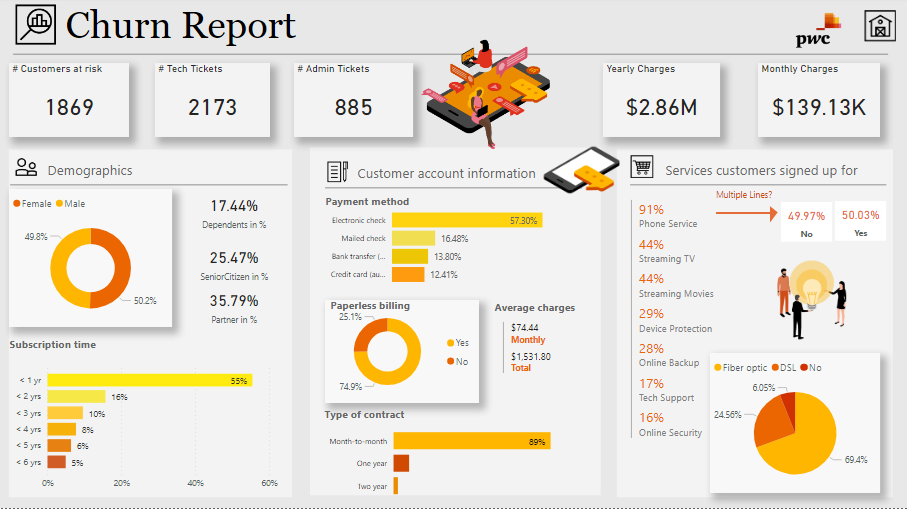

What the dashboard file says about the page in this screenshot:
{"tool":"powerbi","page":{"name":"Churn","canvas":[1280,720],"ordinal":1},"visuals":[{"type":"basicShape","box":[864.9,210,396.8,499.9],"z":0},{"type":"basicShape","box":[432.6,207.1,418.5,500.2],"z":1000},{"type":"basicShape","box":[8.5,209.9,407.2,500.2],"z":2000},{"type":"textbox","box":[87.7,4.9,1173.8,75],"z":3000},{"type":"image","box":[16.6,4.9,67.2,68.2],"z":4000},{"type":"basicShape","box":[8.7,60.7,1253,40.5],"z":5000},{"type":"image","box":[1077.9,0,150.8,94.4],"z":6000},{"type":"card","title":"# Customers at risk","fields":{"Values":["CountNonNull(01 Churn-Dataset.customerID)"]},"box":[12.7,93,169.1,104.3],"z":7000},{"type":"card","title":"# Admin Tickets","fields":{"Values":["Sum(01 Churn-Dataset.numAdminTickets)"]},"box":[414.2,93,167.7,104.3],"z":8000},{"type":"card","title":"# Tech Tickets ","fields":{"Values":["Sum(01 Churn-Dataset.numTechTickets)"]},"box":[218.4,93,162,104.3],"z":9000},{"type":"card","title":"Yearly Charges","fields":{"Values":["Sum(01 Churn-Dataset.TotalCharges)"]},"box":[849.6,93,164.9,104.3],"z":10000},{"type":"card","title":"Monthly Charges","fields":{"Values":["Sum(01 Churn-Dataset.MonthlyCharges)"]},"box":[1068,93,171.9,104.3],"z":11000},{"type":"donutChart","fields":{"Category":["01 Churn-Dataset.gender"],"Y":["CountNonNull(01 Churn-Dataset.gender)"]},"box":[12.7,270.5,229.7,194.4],"z":12000},{"type":"basicShape","box":[4.2,245.7,411.4,39.5],"z":13000},{"type":"image","box":[16.9,217.4,40.5,44.3],"z":14000},{"type":"textbox","box":[62,225.4,341,35.2],"z":15000},{"type":"card","fields":{"Values":["01 Churn-Dataset.Dependents in %"]},"box":[243.8,270.5,171.9,62],"z":16000},{"type":"card","fields":{"Values":["01 Churn-Dataset.SeniorCitizen in %"]},"box":[243.8,343.8,171.9,60.6],"z":17000},{"type":"card","fields":{"Values":["01 Churn-Dataset.Partner in %"]},"box":[243.8,404.4,171.9,60.6],"z":18000},{"type":"textbox","box":[8.5,473.4,314.2,33.8],"z":19000},{"type":"clusteredBarChart","fields":{"Category":["01 Churn-Dataset.Loyalty"],"Y":["CountNonNull(01 Churn-Dataset.customerID)"]},"box":[12.7,508.6,390.3,194.4],"z":20000},{"type":"textbox","box":[499.5,229.7,314.9,35.6],"z":21000},{"type":"image","box":[452.3,227.4,47.2,39.5],"z":22000},{"type":"textbox","box":[453.7,271.9,314.2,35.2],"z":23000},{"type":"basicShape","box":[448.5,250,381.8,39.5],"z":24000},{"type":"clusteredBarChart","fields":{"Category":["01 Churn-Dataset.PaymentMethod"],"Y":["CountNonNull(01 Churn-Dataset.PaymentMethod)"]},"box":[448.1,280.4,362.1,136.7],"z":25000},{"type":"donutChart","fields":{"Category":["01 Churn-Dataset.PaperlessBilling"],"Y":["CountNonNull(01 Churn-Dataset.PaperlessBilling)"]},"box":[457.9,426.9,217,145.1],"z":26000},{"type":"textbox","box":[460.7,418.5,204.3,31],"z":27000},{"type":"textbox","box":[691.8,421.3,149.4,36.6],"z":28000},{"type":"multiRowCard","fields":{"Values":["Avg(01 Churn-Dataset.MonthlyCharges)","Avg(01 Churn-Dataset.TotalCharges)"]},"box":[703.1,452.3,135.3,112.7],"z":29000},{"type":"textbox","box":[452.3,572.1,315.6,35.2],"z":30000},{"type":"clusteredBarChart","fields":{"Category":["01 Churn-Dataset.Contract"],"Y":["CountNonNull(01 Churn-Dataset.Contract)"]},"box":[452.3,587.6,359.3,132.4],"z":31000},{"type":"textbox","box":[932.9,225.5,314.9,35.6],"z":32000},{"type":"basicShape","box":[877.7,245.7,381.4,39.5],"z":33000},{"type":"image","box":[883.4,217.4,42.4,43.3],"z":34000},{"type":"multiRowCard","fields":{"Values":["01 Churn-Dataset.Phone Service in %","01 Churn-Dataset.Streaming TV in %","01 Churn-Dataset.Streaming Movies in %","01 Churn-Dataset.DeviceProtection in %","01 Churn-Dataset.Online Backup in %","01 Churn-Dataset.Tech Support in %","01 Churn-Dataset.Online Security in %"]},"box":[883.4,280.4,164.9,414.2],"z":35000},{"type":"textbox","box":[983.5,264.9,129.6,28.2],"z":36000},{"type":"basicShape","box":[1070.8,287.4,38,32.4],"z":37000},{"type":"basicShape","box":[999,290.3,97.2,28.2],"z":38000},{"type":"card","fields":{"Values":["01 Churn-Dataset.Multiple lines no in %"]},"box":[1100.4,288.8,71.9,56.4],"z":39000},{"type":"card","fields":{"Values":["01 Churn-Dataset.Multiple lines yes in %"]},"box":[1176.5,287.4,71.9,56.4],"z":40000},{"type":"pieChart","fields":{"Category":["01 Churn-Dataset.InternetService"],"Y":["CountNonNull(01 Churn-Dataset.InternetService)"]},"box":[1000.4,501.6,239.5,197.3],"z":41000},{"type":"image","box":[515.7,0,362.1,252.2],"z":42000},{"type":"image","box":[760.9,191.6,116.9,102.9],"z":43000},{"type":"image","box":[1048.3,366.3,190.2,121.2],"z":44000},{"type":"image","box":[1213.2,8.5,53.5,63.4],"z":44001}]}

Visuals, with their boxes in screenshot pixels (x1, y1, x2, y2), scaled from the page's 1280x720 canvas onto the 907x509 screenshot:
basicShape: Rect(613, 148, 894, 502)
basicShape: Rect(307, 146, 603, 500)
basicShape: Rect(6, 148, 295, 502)
textbox: Rect(62, 3, 894, 56)
image: Rect(12, 3, 59, 52)
basicShape: Rect(6, 43, 894, 72)
image: Rect(764, 0, 871, 67)
"# Customers at risk" card: Rect(9, 66, 129, 139)
"# Admin Tickets" card: Rect(293, 66, 412, 139)
"# Tech Tickets " card: Rect(155, 66, 270, 139)
"Yearly Charges" card: Rect(602, 66, 719, 139)
"Monthly Charges" card: Rect(757, 66, 879, 139)
donutChart - 01 Churn-Dataset.gender x CountNonNull(01 Churn-Dataset.gender): Rect(9, 191, 172, 329)
basicShape: Rect(3, 174, 294, 202)
image: Rect(12, 154, 41, 185)
textbox: Rect(44, 159, 286, 184)
card - 01 Churn-Dataset.Dependents in %: Rect(173, 191, 295, 235)
card - 01 Churn-Dataset.SeniorCitizen in %: Rect(173, 243, 295, 286)
card - 01 Churn-Dataset.Partner in %: Rect(173, 286, 295, 329)
textbox: Rect(6, 335, 229, 359)
clusteredBarChart - 01 Churn-Dataset.Loyalty x CountNonNull(01 Churn-Dataset.customerID): Rect(9, 360, 286, 497)
textbox: Rect(354, 162, 577, 188)
image: Rect(320, 161, 354, 189)
textbox: Rect(321, 192, 544, 217)
basicShape: Rect(318, 177, 588, 205)
clusteredBarChart - 01 Churn-Dataset.PaymentMethod x CountNonNull(01 Churn-Dataset.PaymentMethod): Rect(318, 198, 574, 295)
donutChart - 01 Churn-Dataset.PaperlessBilling x CountNonNull(01 Churn-Dataset.PaperlessBilling): Rect(324, 302, 478, 404)
textbox: Rect(326, 296, 471, 318)
textbox: Rect(490, 298, 596, 324)
multiRowCard - Avg(01 Churn-Dataset.MonthlyCharges) x Avg(01 Churn-Dataset.TotalCharges): Rect(498, 320, 594, 399)
textbox: Rect(320, 404, 544, 429)
clusteredBarChart - 01 Churn-Dataset.Contract x CountNonNull(01 Churn-Dataset.Contract): Rect(320, 415, 575, 508)
textbox: Rect(661, 159, 884, 185)
basicShape: Rect(622, 174, 892, 202)
image: Rect(626, 154, 656, 184)
multiRowCard - 01 Churn-Dataset.Phone Service in % x 01 Churn-Dataset.Streaming TV in %: Rect(626, 198, 743, 491)
textbox: Rect(697, 187, 789, 207)
basicShape: Rect(759, 203, 786, 226)
basicShape: Rect(708, 205, 777, 225)
card - 01 Churn-Dataset.Multiple lines no in %: Rect(780, 204, 831, 244)
card - 01 Churn-Dataset.Multiple lines yes in %: Rect(834, 203, 885, 243)
pieChart - 01 Churn-Dataset.InternetService x CountNonNull(01 Churn-Dataset.InternetService): Rect(709, 355, 879, 494)
image: Rect(365, 0, 622, 178)
image: Rect(539, 135, 622, 208)
image: Rect(743, 259, 878, 345)
image: Rect(860, 6, 898, 51)
